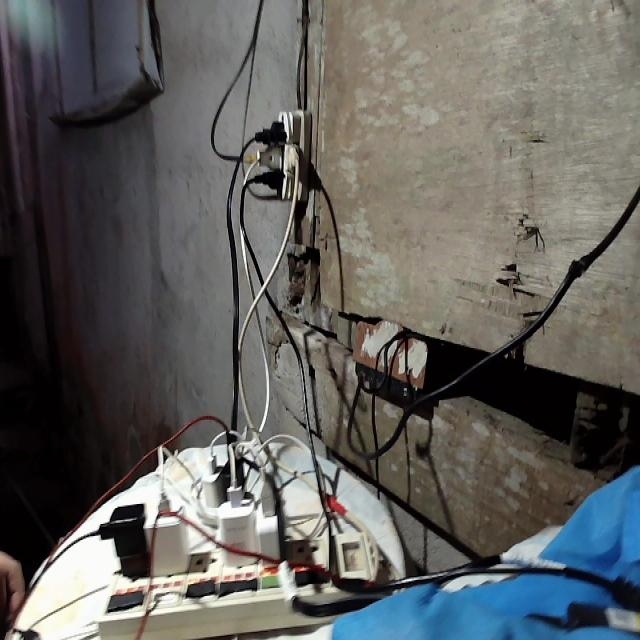-: (244, 105, 314, 211)
